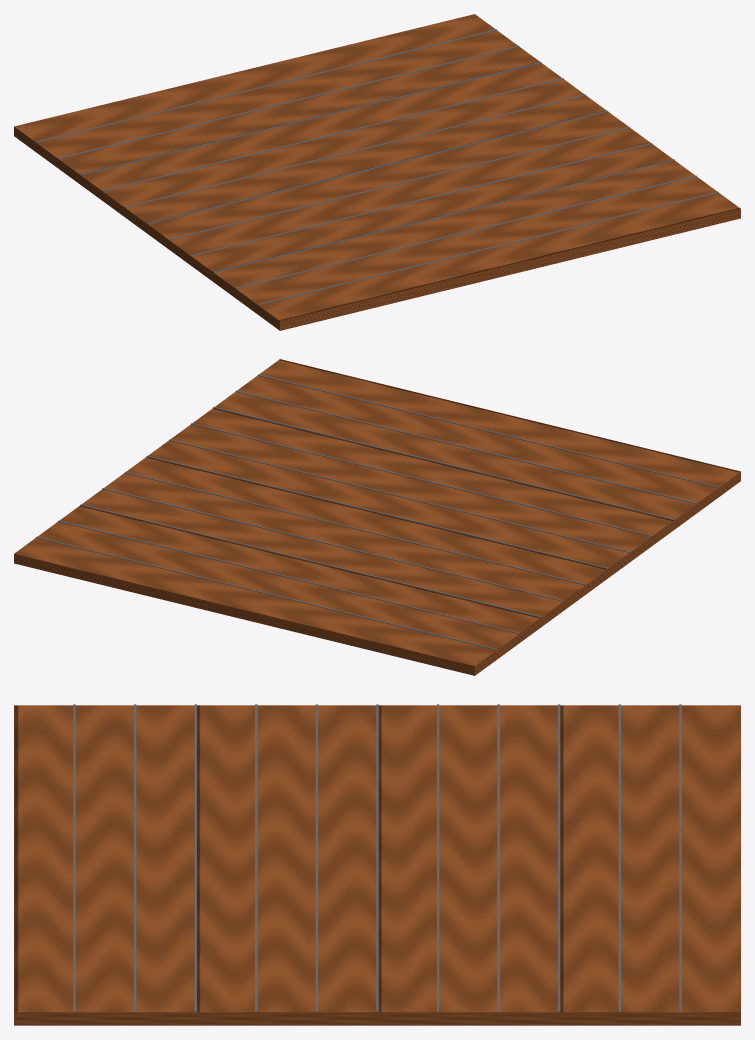
File: cruise-ship-deck-and-lounge-cruise-ship-deck-and-loung-430d7f56__38404.glb
The picture shows the model from 3 angles, top to bottom: view 1: azimuth 30°, elevation 25°; view 2: azimuth 150°, elevation 25°; view 3: azimuth 270°, elevation 25°; orthographic projection. The views are drawn at different scales.
Parts seen in each view (by area): view 1: cruise-ship-deck-and-lounge-teak-deck-plate; view 2: cruise-ship-deck-and-lounge-teak-deck-plate; view 3: cruise-ship-deck-and-lounge-teak-deck-plate.
Part boxes in pixels (x1,y1,x2,y2): cruise-ship-deck-and-lounge-teak-deck-plate: (14, 14, 740, 330); cruise-ship-deck-and-lounge-teak-deck-plate: (14, 359, 740, 675); cruise-ship-deck-and-lounge-teak-deck-plate: (14, 704, 740, 1025).
Bounding box in the file's own units: 6 × 0.1279 × 6.
2 materials, 1 textured.
